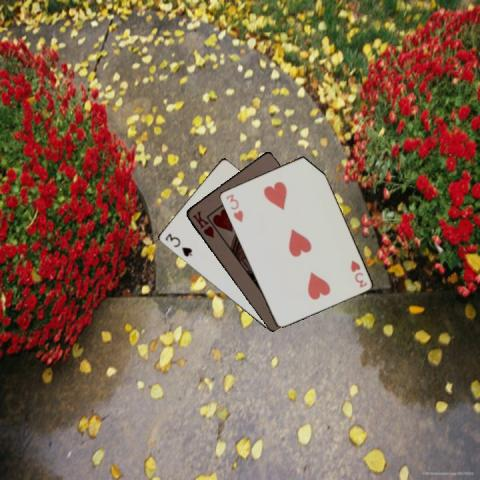3h: (223, 191, 244, 223), (347, 257, 368, 289)
3s: (162, 231, 193, 258)
Kh: (190, 208, 216, 239)
